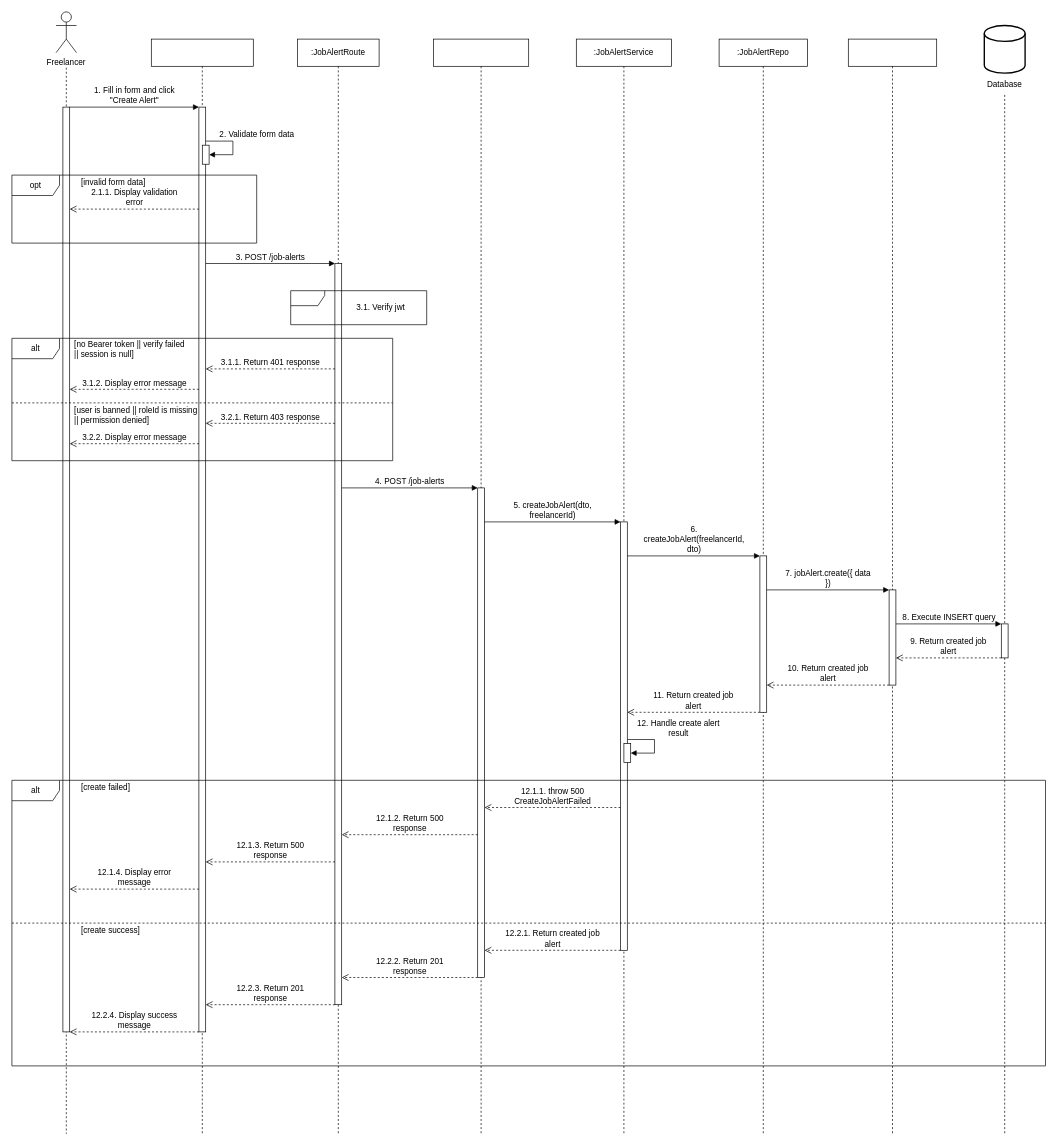
Image size: 1058x1146. Some labels were removed from this diagram. The shapes that lost their labels are listed below. From the top down, each one's box as (x1, y1, x2, y2) in pixels, then its label:
(290, 290, 427, 325): ref
(151, 38, 253, 1134): :JobAlertPage
(433, 38, 529, 1134): :JobAlertController
(848, 38, 937, 1134): :PrismaService
